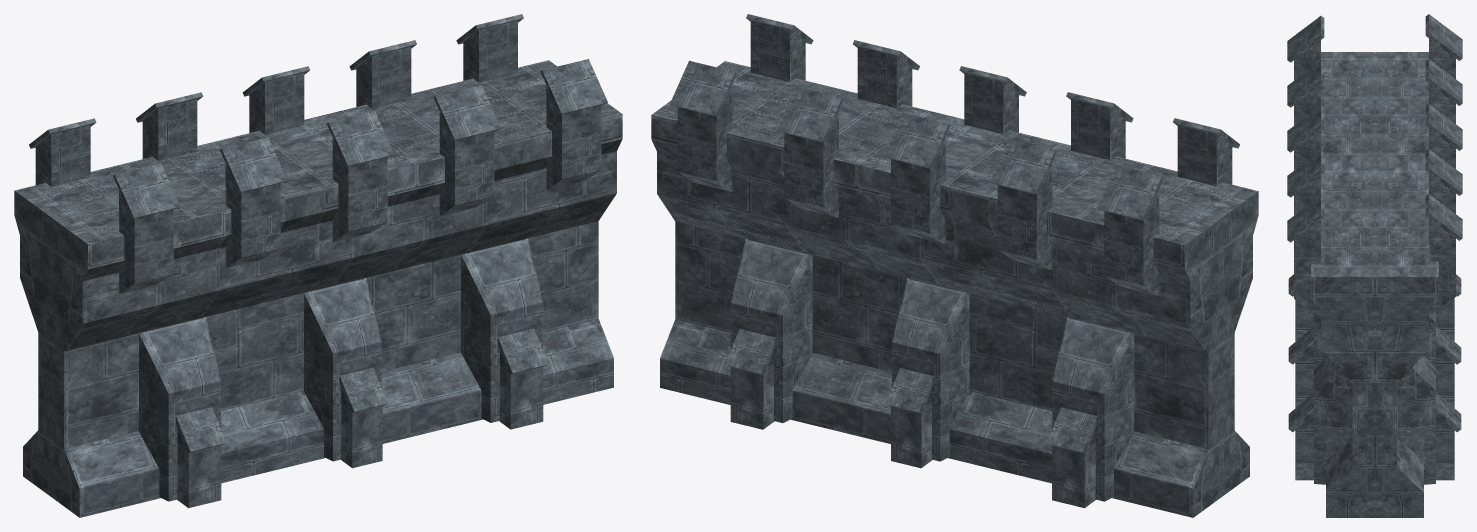
Rendered from wall.fbx.
The picture shows the model from 3 angles, left to right: view 1: azimuth 30°, elevation 25°; view 2: azimuth 150°, elevation 25°; view 3: azimuth 270°, elevation 25°; orthographic projection. The views are drawn at different scales.
Visible parts, largest first — view 1: _1.001; view 2: _1.001; view 3: _1.001.
Part boxes in pixels (<box>): _1.001: <box>14,14,622,517</box>; _1.001: <box>651,14,1258,517</box>; _1.001: <box>1287,14,1462,517</box>.
Bounding box in the file's own units: 853 × 515 × 281.
